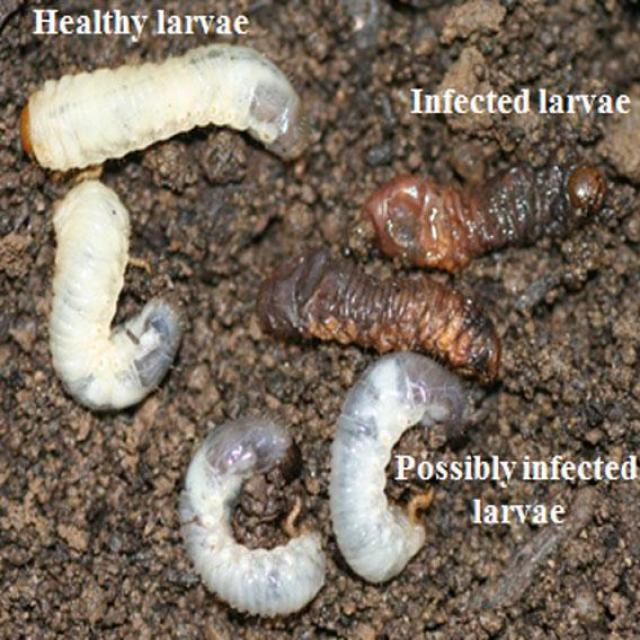Grub-Adult-: (310, 336, 501, 585), (27, 175, 192, 435), (13, 40, 319, 170), (162, 420, 340, 618)
